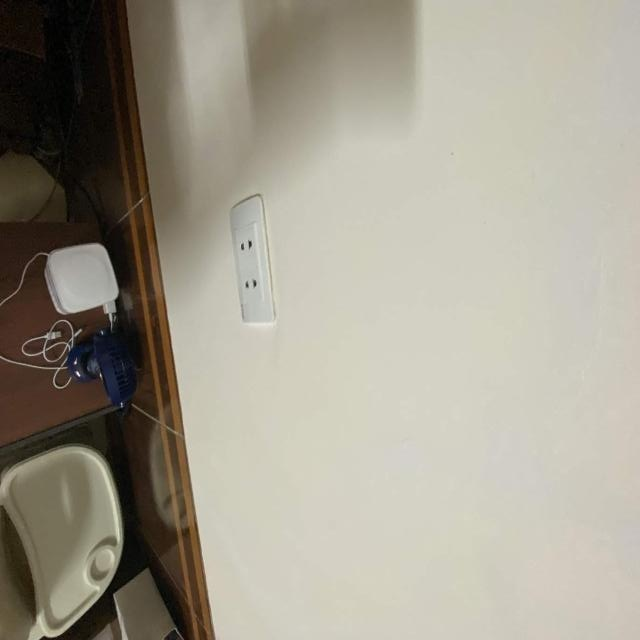outlet: (229, 194, 277, 324)
